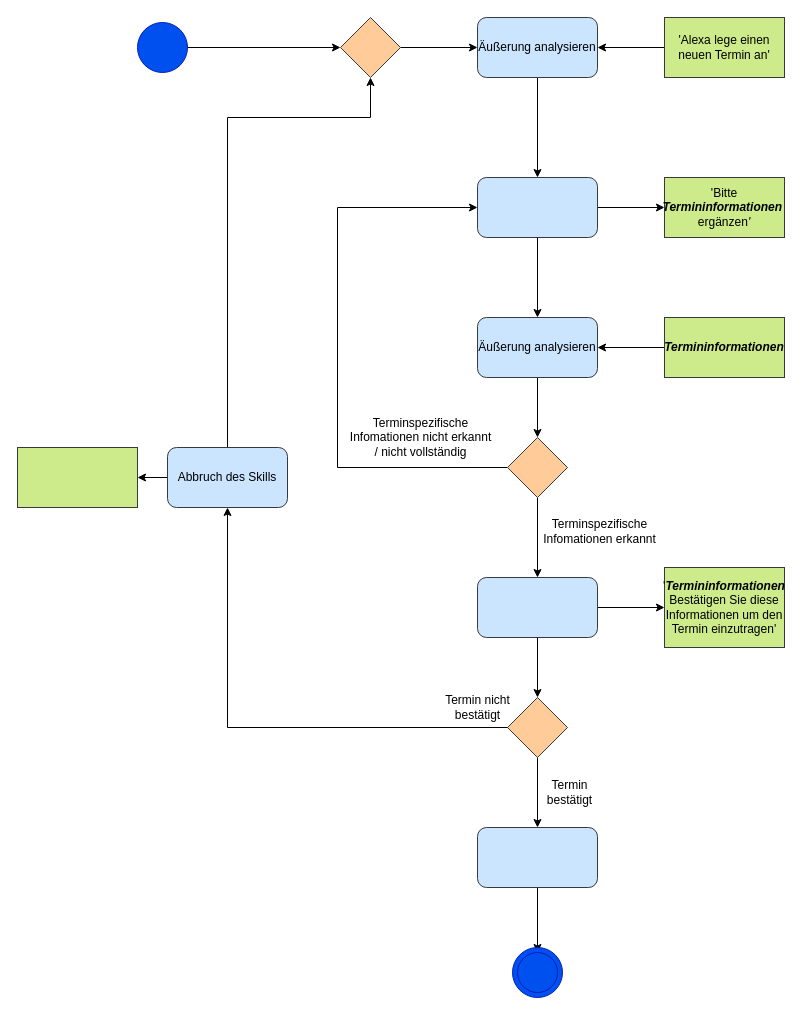
Image size: 805x1015. Some labels were removed from this diagram. Here are the shapes that lost their labels. From the top down, the centre of each, then its label:
At point 537,207: "Nach Terminspezifischen Informationen fragen".
At point 77,477: "'Termin wurde nicht gespeichert'".
At point 537,607: "Termininformationen zur Überprüfung wiederholen".
At point 537,857: "Termin speichern".
